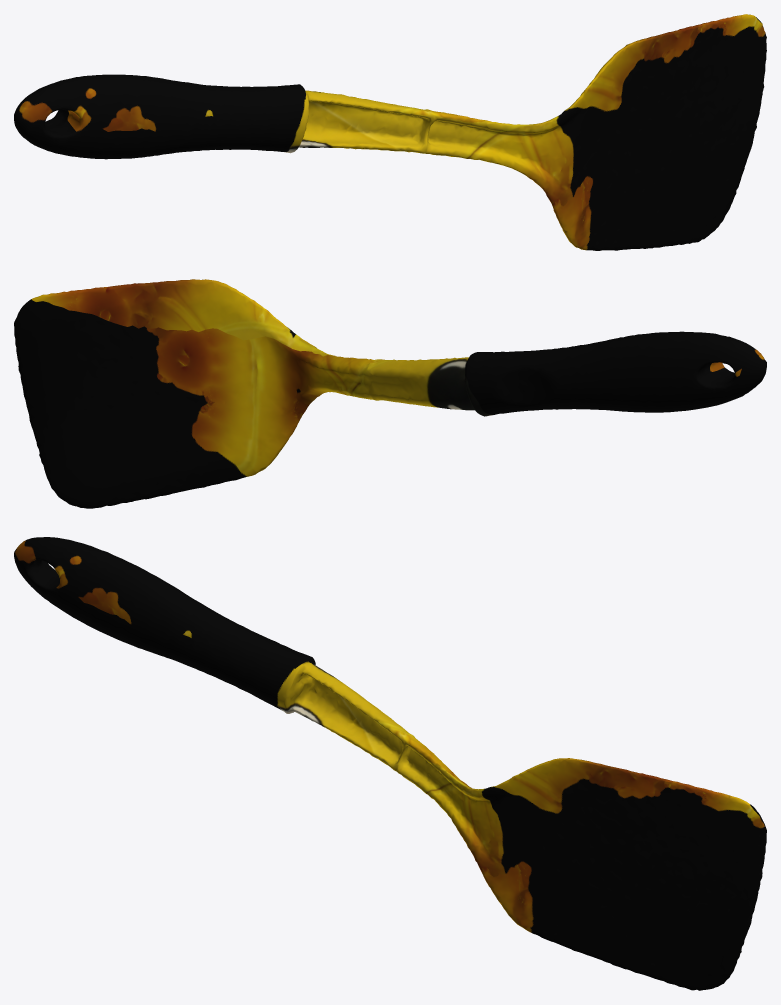
The picture shows the model from 3 angles, top to bottom: view 1: azimuth 30°, elevation 25°; view 2: azimuth 150°, elevation 25°; view 3: azimuth 330°, elevation 25°; orthographic projection. The views are drawn at different scales.
Size of the model in its own units: 0.3055 by 0.1246 by 0.0329.
